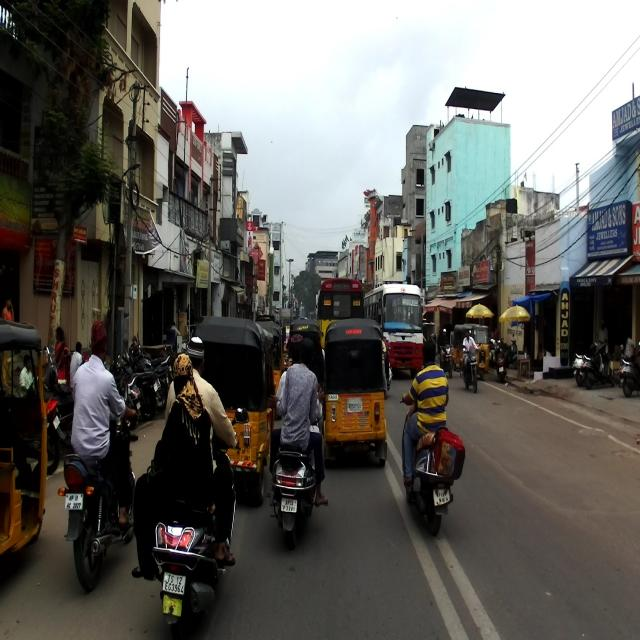autorickshaw: (193, 315, 275, 507), (0, 318, 49, 556), (322, 317, 388, 468)
motorcycle: (58, 400, 136, 594), (462, 335, 480, 395)
scooter: (151, 406, 248, 638), (266, 389, 324, 550), (398, 392, 454, 535)
